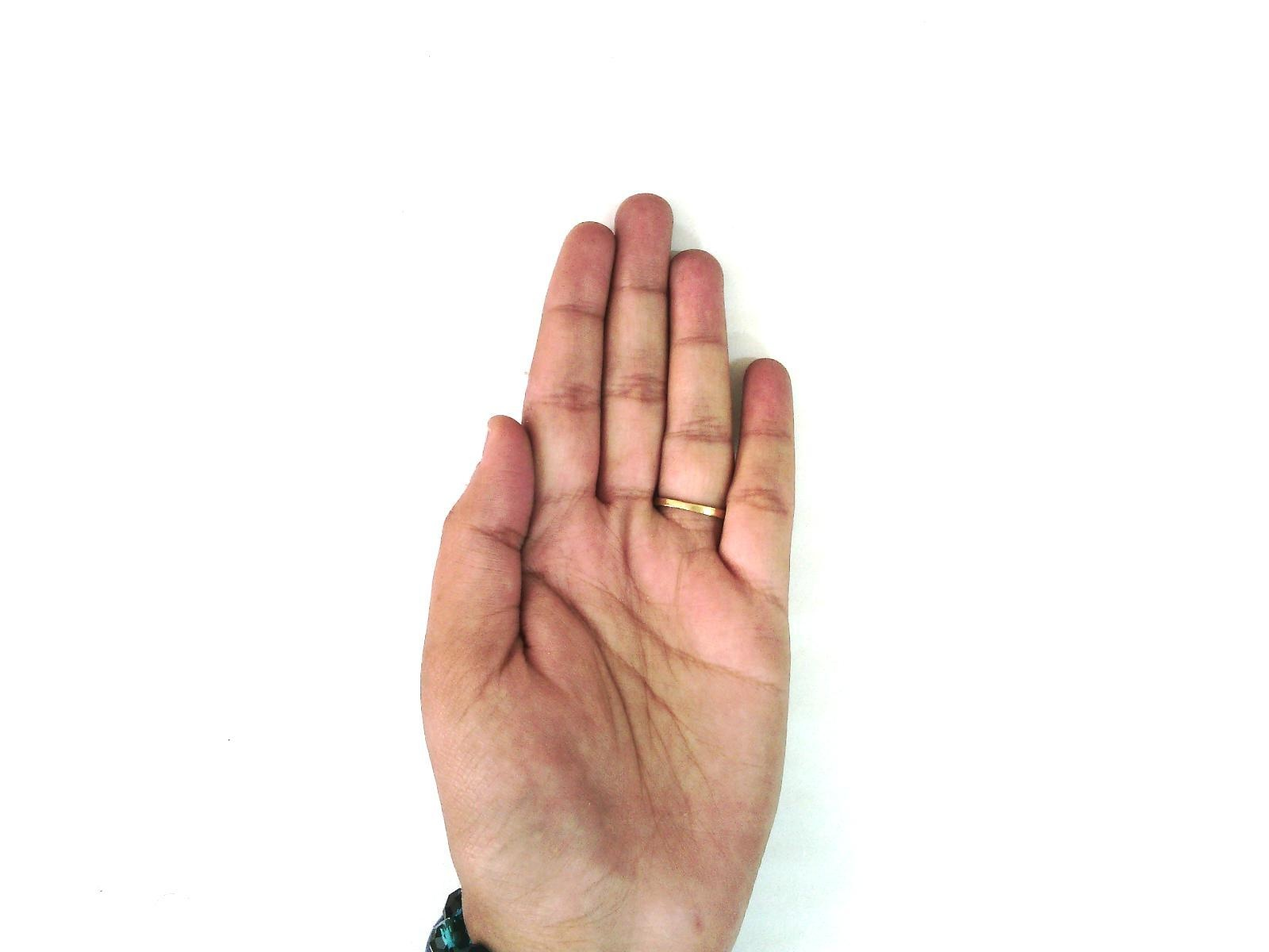open_palm: (416, 192, 800, 950)
